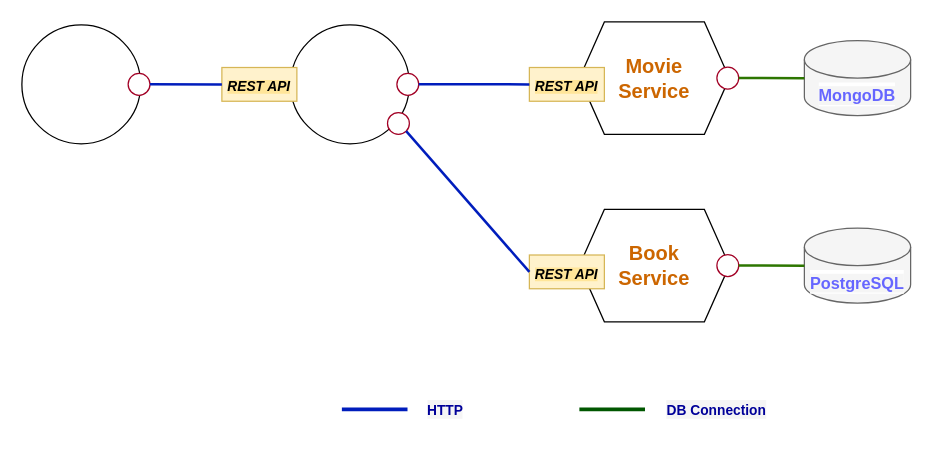
The diagram is 933 pixels wide and 456 high, and some of its shapes have lost their labels. Each missing label, with the box of its shape:
API Gateway: (289, 24, 409, 144)
Client: (21, 24, 141, 144)
